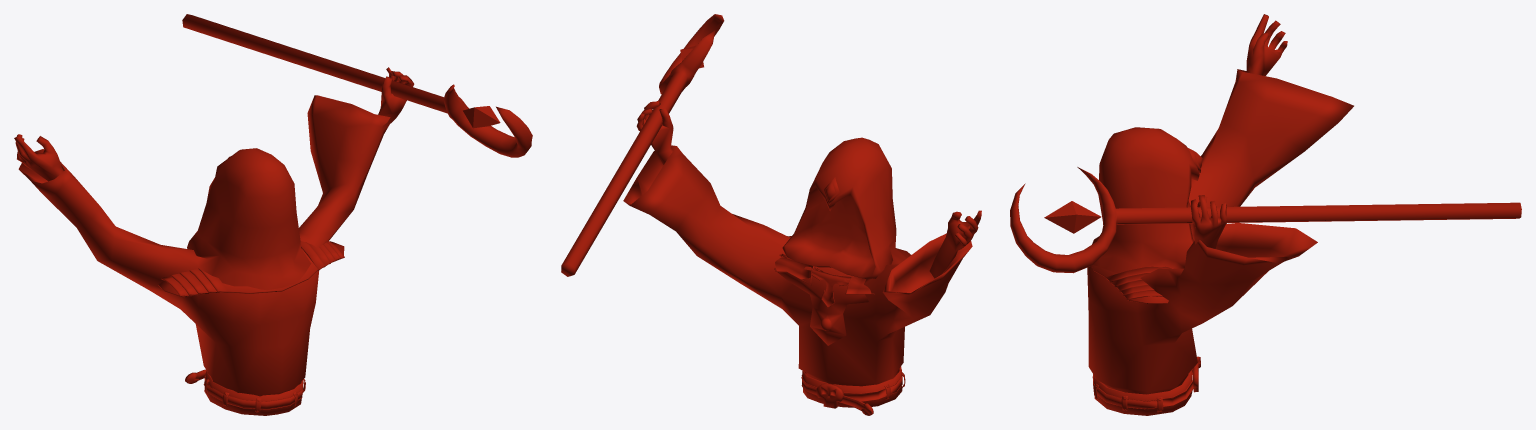
The model's file is top_000021.obj.
3 views of the same model, side by side, from view 1: azimuth 30°, elevation 25°; view 2: azimuth 150°, elevation 25°; view 3: azimuth 270°, elevation 25° (orthographic). The views are drawn at different scales.
Parts seen in each view (by area): view 1: LowPoly_Warlock.000_Plane.005; view 2: LowPoly_Warlock.000_Plane.005; view 3: LowPoly_Warlock.000_Plane.005.
Part boxes in pixels (bbox=[...]): LowPoly_Warlock.000_Plane.005: bbox=[14, 14, 532, 415]; LowPoly_Warlock.000_Plane.005: bbox=[561, 14, 981, 415]; LowPoly_Warlock.000_Plane.005: bbox=[1010, 14, 1521, 415].
Size of the model in its own units: 1.84 by 1.26 by 1.85.
